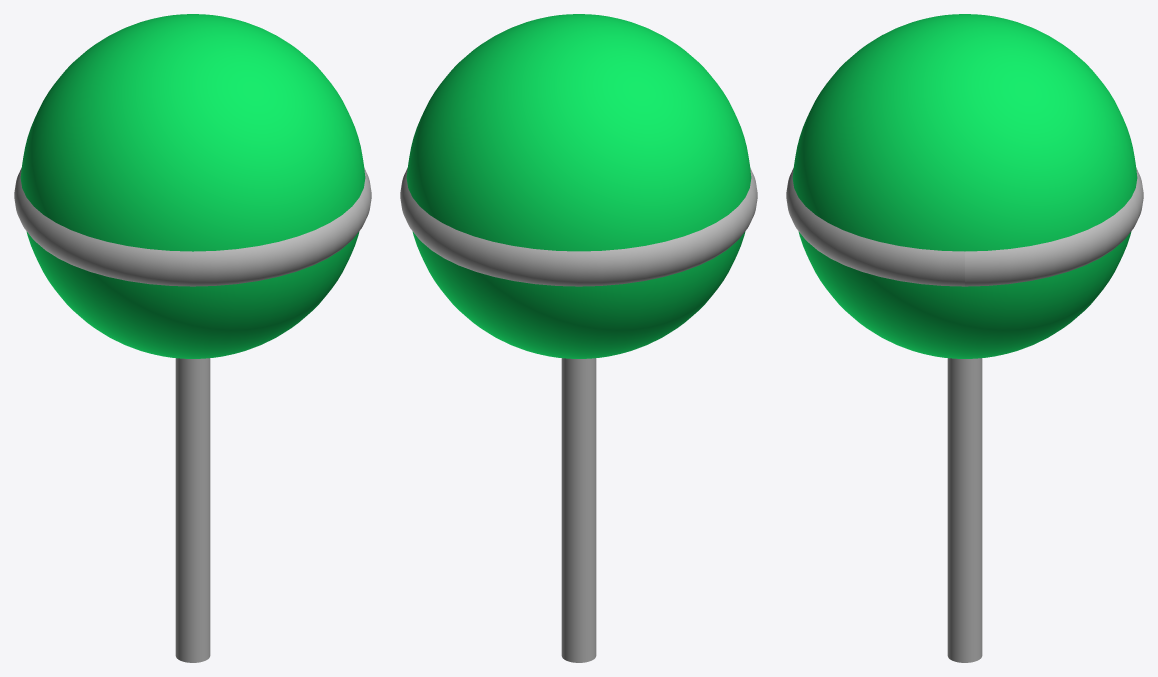
The model's file is lollypop1.glb.
The picture shows the model from 3 angles, left to right: view 1: azimuth 30°, elevation 25°; view 2: azimuth 150°, elevation 25°; view 3: azimuth 270°, elevation 25°; orthographic projection.
Visible parts, largest first — view 1: Kugel, Torus, Zylinder; view 2: Kugel, Torus, Zylinder; view 3: Kugel, Torus, Zylinder.
Part boxes in pixels (bbox=[...]): Kugel: bbox=[20, 14, 365, 358]; Torus: bbox=[14, 168, 371, 286]; Zylinder: bbox=[175, 358, 210, 662]; Kugel: bbox=[406, 14, 751, 358]; Torus: bbox=[400, 168, 757, 286]; Zylinder: bbox=[561, 358, 596, 662]; Kugel: bbox=[792, 14, 1137, 358]; Torus: bbox=[786, 168, 1143, 286]; Zylinder: bbox=[947, 358, 982, 662].
Size of the model in its own units: 0.2072 by 0.4 by 0.2072.
